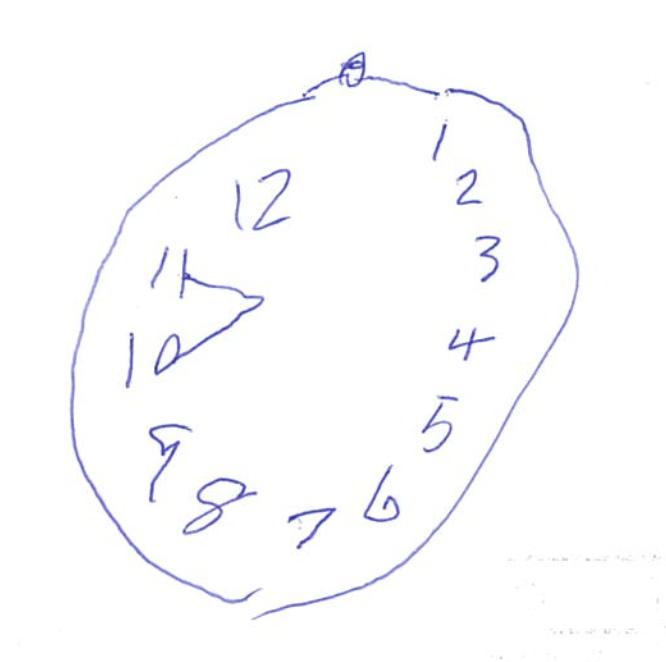1: (430, 115, 449, 169)
10: (119, 329, 180, 388)
11: (146, 244, 191, 299)
12: (225, 165, 297, 235)
2: (454, 160, 483, 214)
3: (475, 233, 507, 285)
4: (447, 319, 499, 364)
5: (417, 389, 458, 457)
6: (361, 465, 404, 529)
7: (286, 506, 336, 551)
8: (177, 472, 257, 535)
9: (145, 414, 191, 509)
contour: (65, 68, 583, 616)
